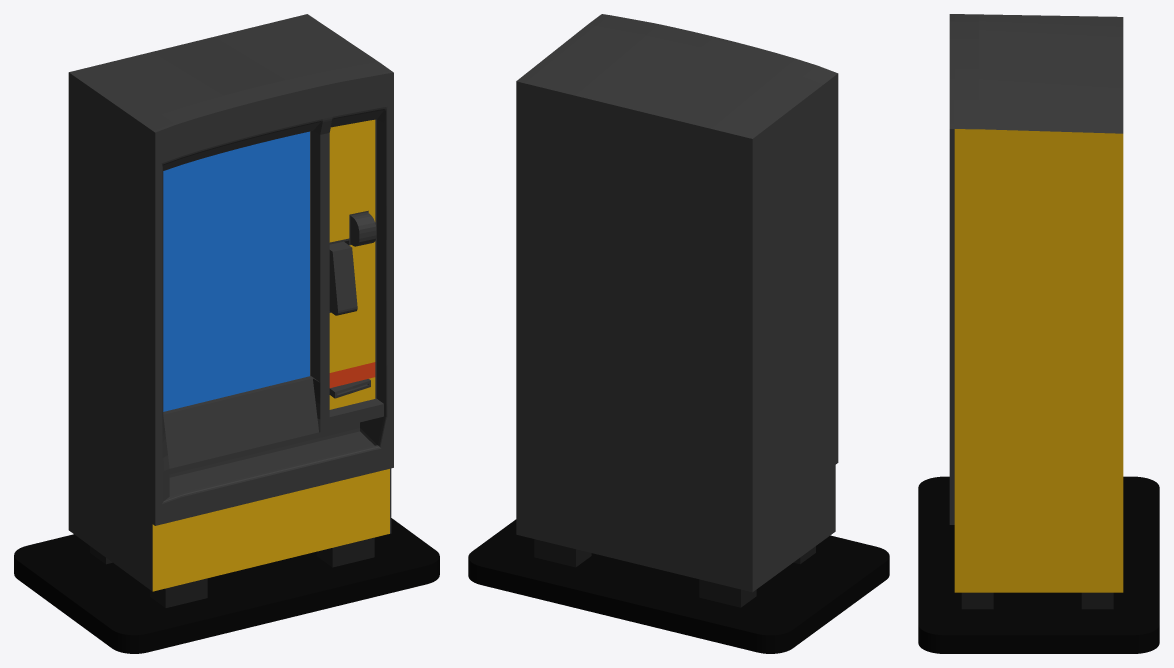
The model's file is lotteryMachine.fbx.
3 renders of one model, left to right at view 1: azimuth 30°, elevation 25°; view 2: azimuth 150°, elevation 25°; view 3: azimuth 270°, elevation 25°, orthographic.
Visible parts, largest first — view 1: 立方体, 立方体.001, 立方体.002; view 2: 立方体, 立方体.001, 立方体.002; view 3: 立方体, 立方体.001, 立方体.002.
Part boxes in pixels (box(x1,y1,x2,y2)): 立方体: box(68, 14, 393, 591); 立方体.001: box(14, 518, 439, 653); 立方体.002: box(90, 537, 374, 607); 立方体: box(516, 14, 838, 592); 立方体.001: box(468, 519, 889, 653); 立方体.002: box(534, 539, 815, 607); 立方体: box(949, 14, 1123, 592); 立方体.001: box(918, 476, 1159, 653); 立方体.002: box(961, 592, 1113, 609).
Bounding box in the file's own units: 361 × 542 × 232.
